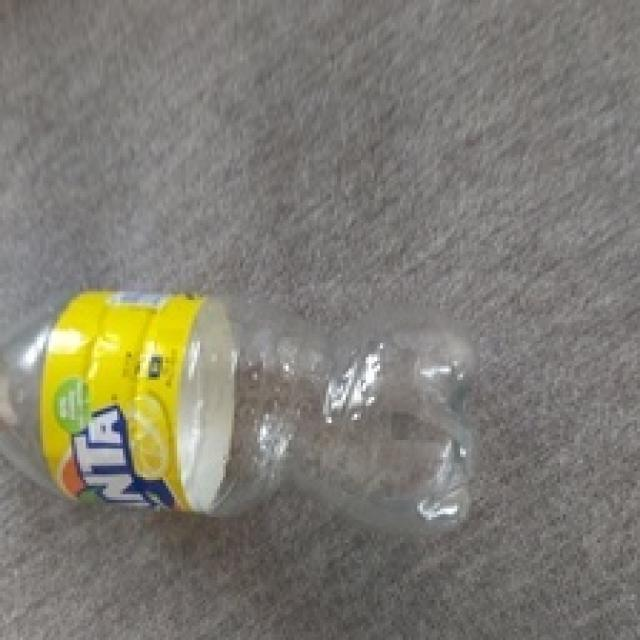Plastic: (0, 287, 481, 534)
